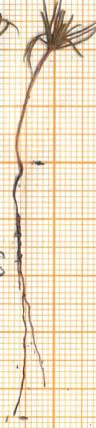flower: (18, 1, 96, 71)
root: (9, 164, 47, 412)
stem: (12, 53, 50, 162)
